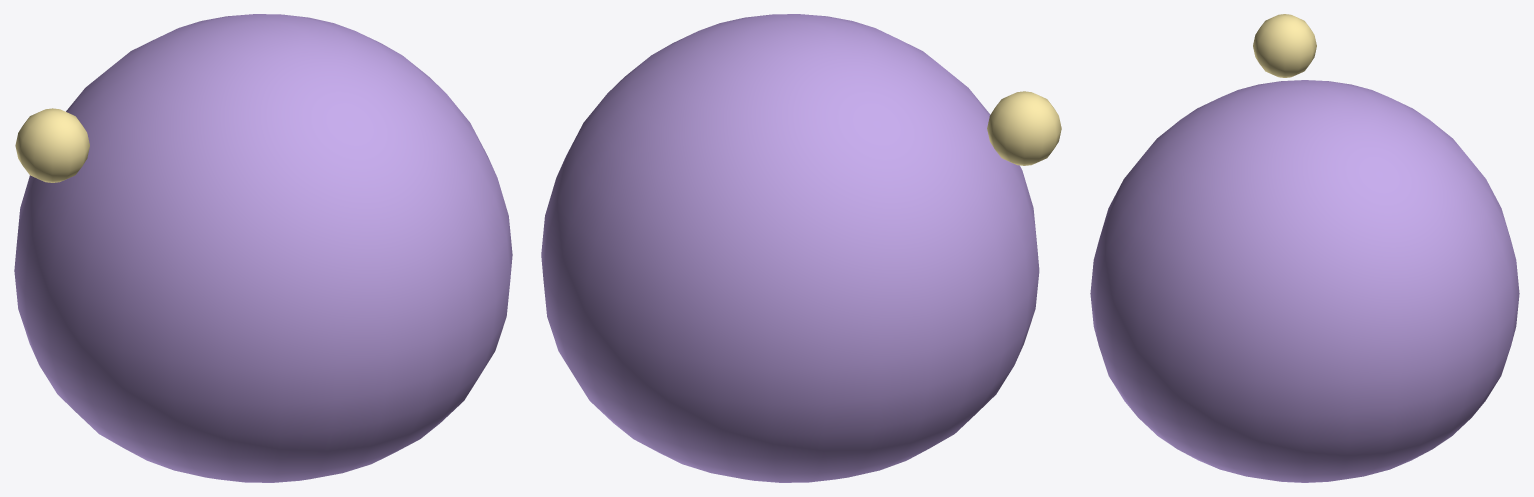
The model's file is Bop.fbx.
3 renders of one model, left to right at view 1: azimuth 30°, elevation 25°; view 2: azimuth 150°, elevation 25°; view 3: azimuth 270°, elevation 25°, orthographic. The views are drawn at different scales.
Visible parts, largest first — view 1: Bop_Outline, Bop_Motif; view 2: Bop_Outline, Bop_Motif; view 3: Bop_Outline, Bop_Motif.
Part boxes in pixels (box(x1,y1,x2,y2)): Bop_Outline: box(14, 14, 512, 482); Bop_Motif: box(15, 108, 89, 182); Bop_Outline: box(541, 14, 1039, 482); Bop_Motif: box(987, 91, 1061, 165); Bop_Outline: box(1090, 80, 1519, 482); Bop_Motif: box(1253, 14, 1316, 77).
Size of the model in its own units: 1.16 by 0.98 by 1.07.
